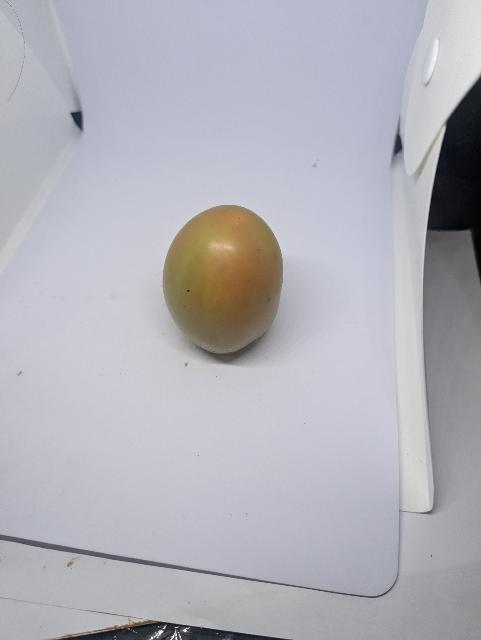breaker: (161, 203, 291, 358)
